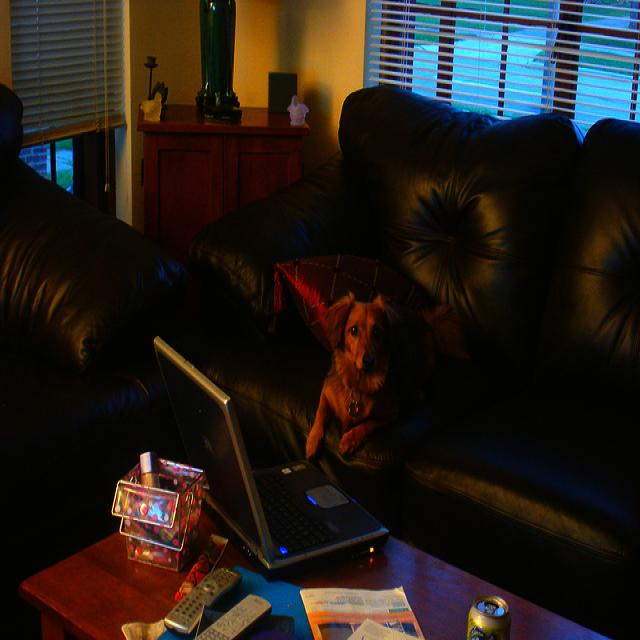Dog: (280, 285, 444, 519)
